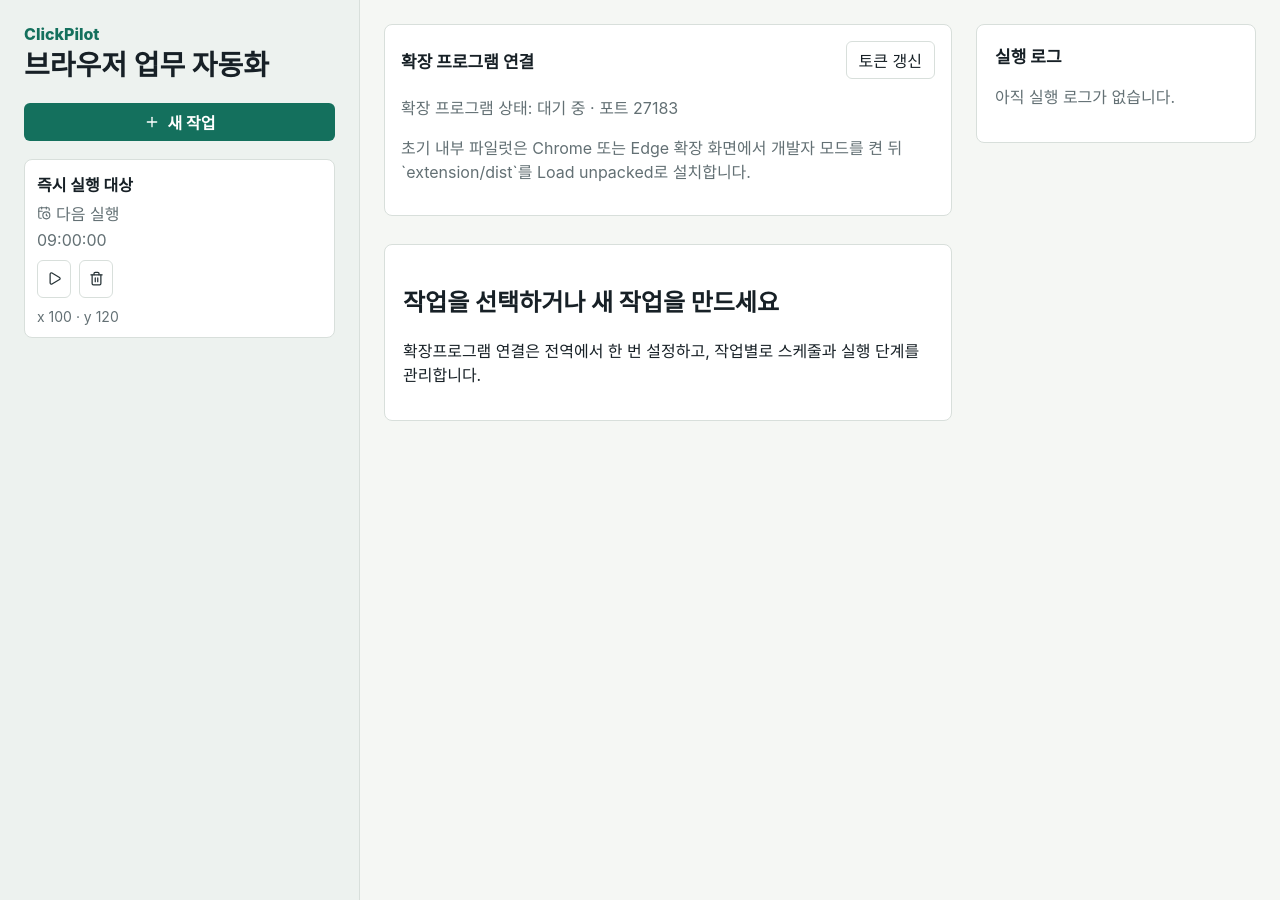
Test: ClickPilot task workflow › runs a saved task immediately
Click the button named "즉시 실행 즉시 실행 대상" at [54, 279], box [37,260,71,298]
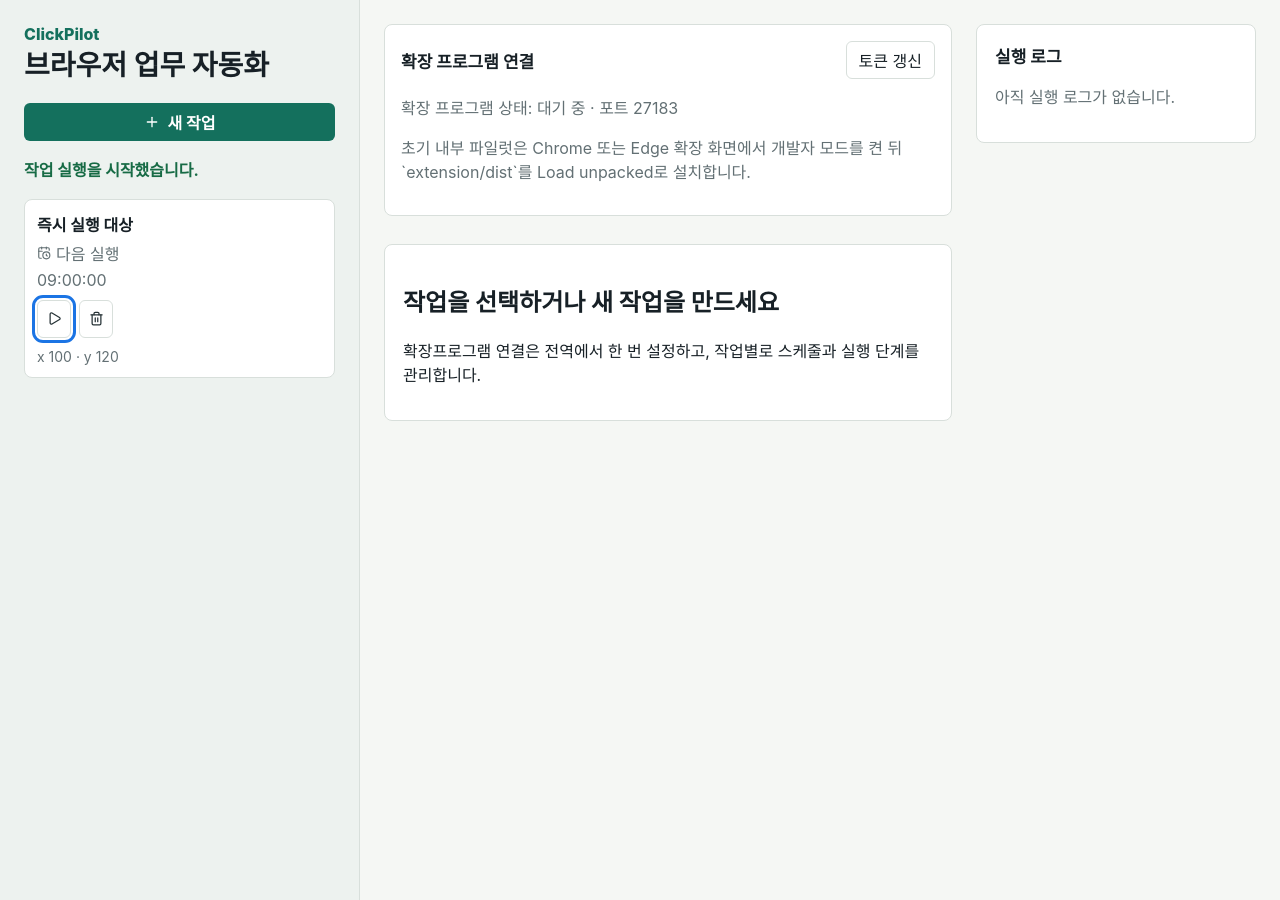
Now the text "작업 실행을 시작했습니다." is shown, box [24,160,199,180]
